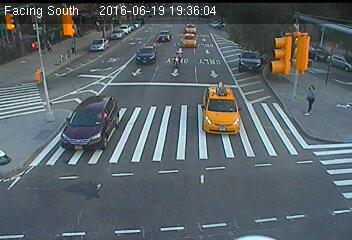neg: (37, 95, 57, 122), (168, 48, 185, 71), (212, 76, 229, 98), (67, 39, 77, 54)
pos: (297, 80, 324, 117), (43, 38, 55, 54), (37, 39, 49, 54)
